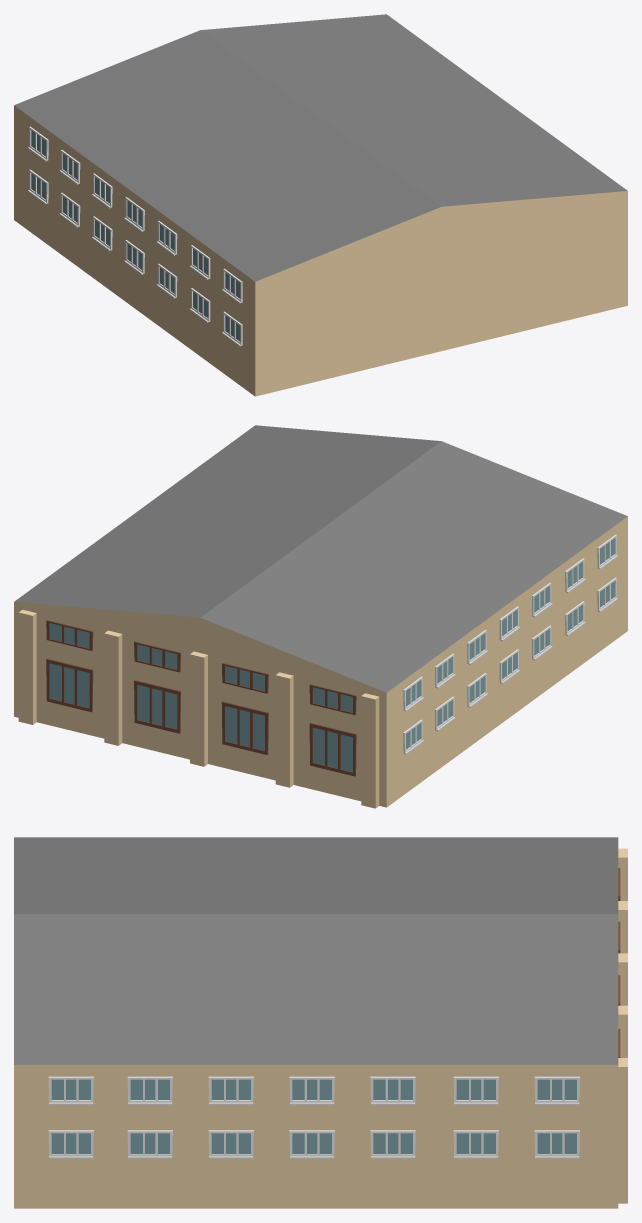
File:  Rectal  (Back build).fbx
3 renders of one model, top to bottom at view 1: azimuth 30°, elevation 25°; view 2: azimuth 150°, elevation 25°; view 3: azimuth 270°, elevation 25°, orthographic. The views are drawn at different scales.
Parts seen in each view (by area): view 1: Rectal (Back build); view 2: Rectal (Back build); view 3: Rectal (Back build).
Part boxes in pixels (x1,y1,x2,y2): Rectal (Back build): (14,14,627,396); Rectal (Back build): (14,425,627,808); Rectal (Back build): (14,837,627,1208).
Bounding box in the file's own units: 6631 × 2416 × 7435.
